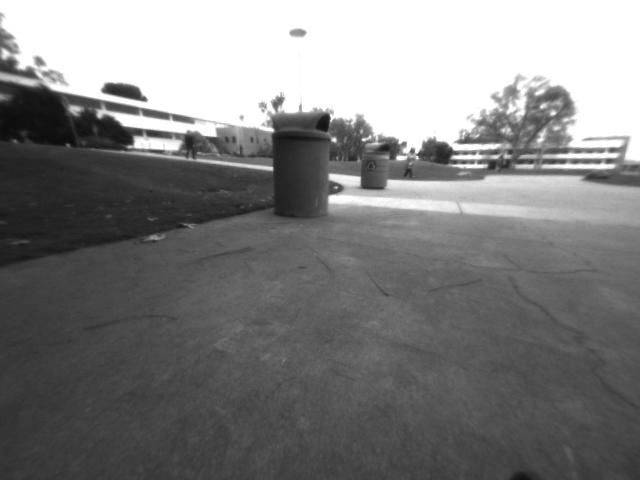trashcan: (272, 104, 335, 224)
